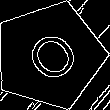O_SE: (16, 22, 83, 89)
